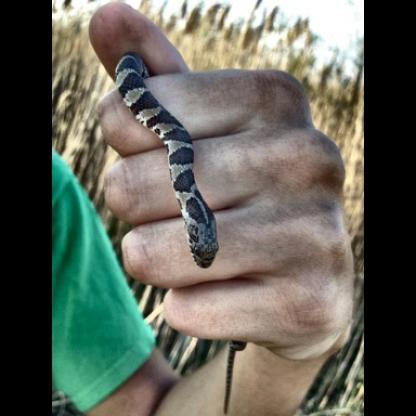Snake: (77, 21, 350, 404)
